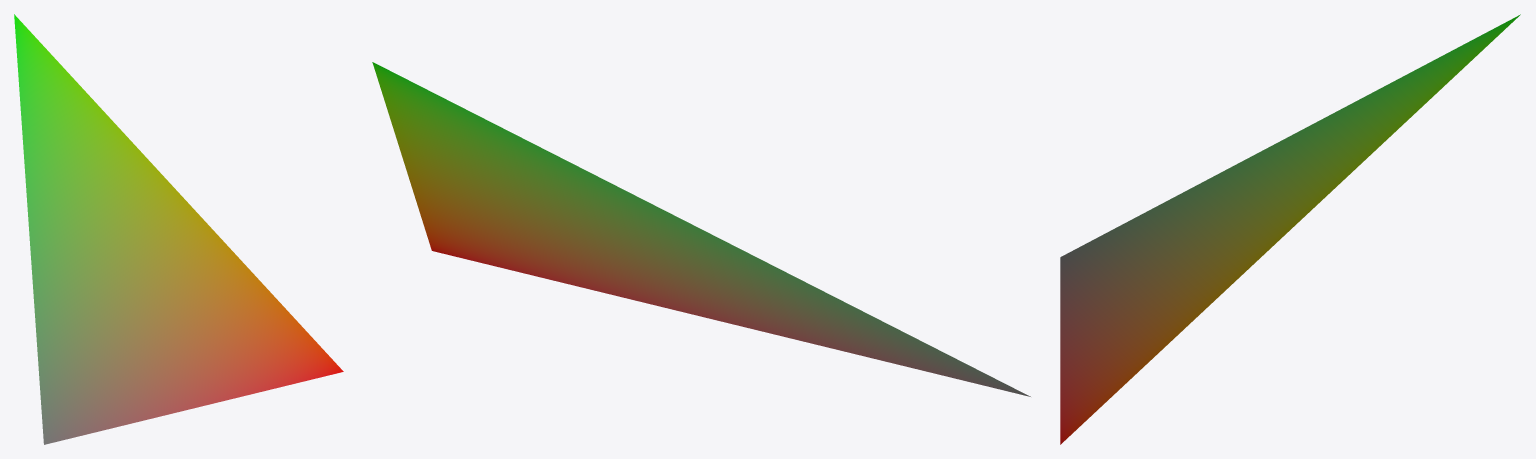
Rendered from start_border_patch_10.obj.
3 renders of one model, left to right at view 1: azimuth 30°, elevation 25°; view 2: azimuth 150°, elevation 25°; view 3: azimuth 270°, elevation 25°, orthographic. The views are drawn at different scales.
Size of the model in its own units: 0.8253 by 0.691 by 0.8569.
